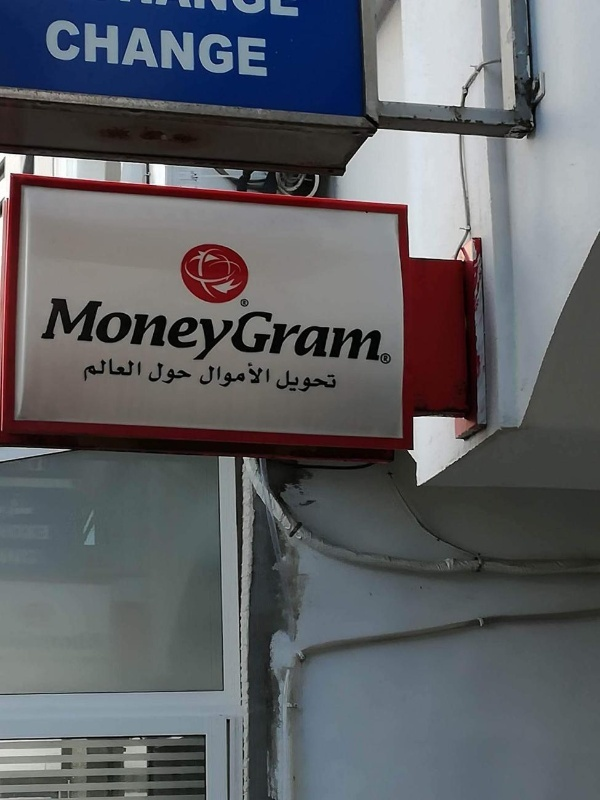text: (49, 295, 64, 388), (65, 295, 80, 388), (81, 295, 96, 388), (97, 295, 112, 388), (113, 295, 128, 388), (129, 295, 144, 388), (145, 295, 160, 388), (161, 295, 176, 388), (177, 295, 192, 388), (193, 295, 208, 388), (209, 295, 224, 388), (225, 295, 240, 388), (241, 295, 256, 388), (257, 295, 272, 388), (273, 295, 288, 388), (289, 295, 304, 388), (305, 295, 320, 388), (321, 295, 336, 388), (337, 295, 352, 388), (353, 295, 368, 388), (369, 295, 383, 388), (49, 17, 64, 78), (65, 17, 80, 78), (81, 17, 96, 78), (97, 17, 112, 78), (113, 17, 128, 78), (129, 17, 144, 78), (145, 17, 160, 78), (161, 17, 176, 78), (177, 17, 192, 78), (193, 17, 208, 78), (209, 17, 224, 78), (225, 17, 240, 78), (241, 17, 256, 78), (257, 17, 268, 78), (209, 361, 224, 393), (225, 361, 240, 393), (241, 361, 256, 393), (257, 361, 271, 393), (177, 361, 193, 389), (161, 361, 176, 389), (97, 356, 112, 382), (113, 356, 128, 382), (289, 369, 304, 394), (305, 369, 320, 394), (321, 369, 336, 394), (83, 356, 96, 382), (129, 356, 142, 382), (275, 369, 288, 394), (150, 361, 160, 389), (201, 361, 208, 393), (45, 17, 48, 78), (243, 300, 256, 306), (337, 369, 340, 394), (385, 355, 389, 363)
